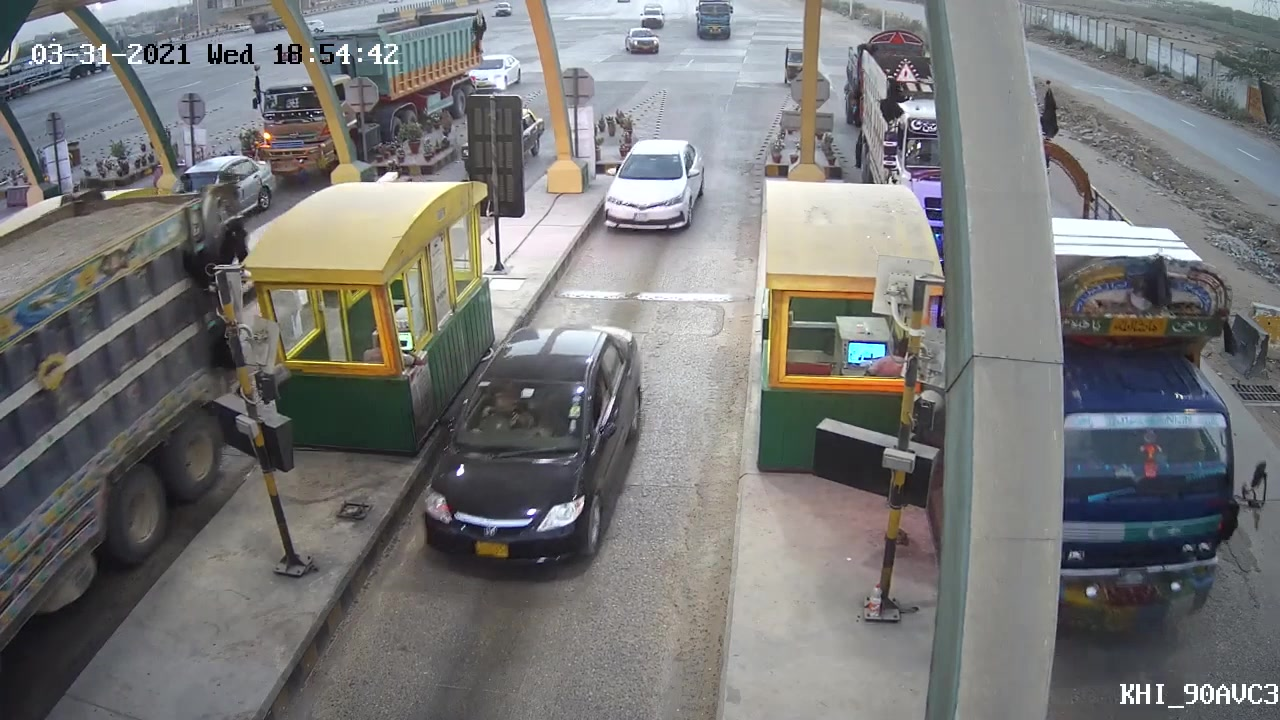F1: (421, 314, 648, 580)
